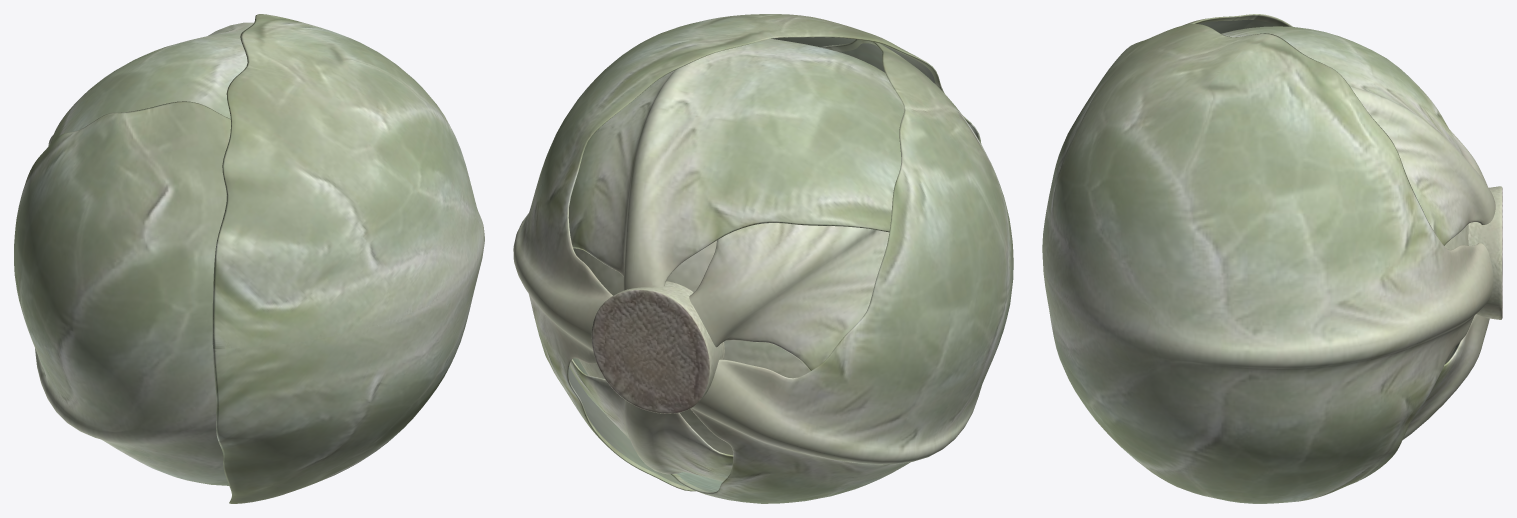
Rendered from 12209_Vegetable_v1_L3.obj.
3 views of the same model, side by side, from view 1: azimuth 30°, elevation 25°; view 2: azimuth 150°, elevation 25°; view 3: azimuth 270°, elevation 25° (orthographic). The views are drawn at different scales.
Visible parts, largest first — view 1: Vegetable; view 2: Vegetable; view 3: Vegetable.
Part boxes in pixels (bbox=[...]): Vegetable: bbox=[14, 14, 484, 503]; Vegetable: bbox=[513, 14, 1013, 503]; Vegetable: bbox=[1042, 14, 1502, 503].
Size of the model in its own units: 19.36 by 19.31 by 17.98.
Materials: 1 (1 with a texture image).
